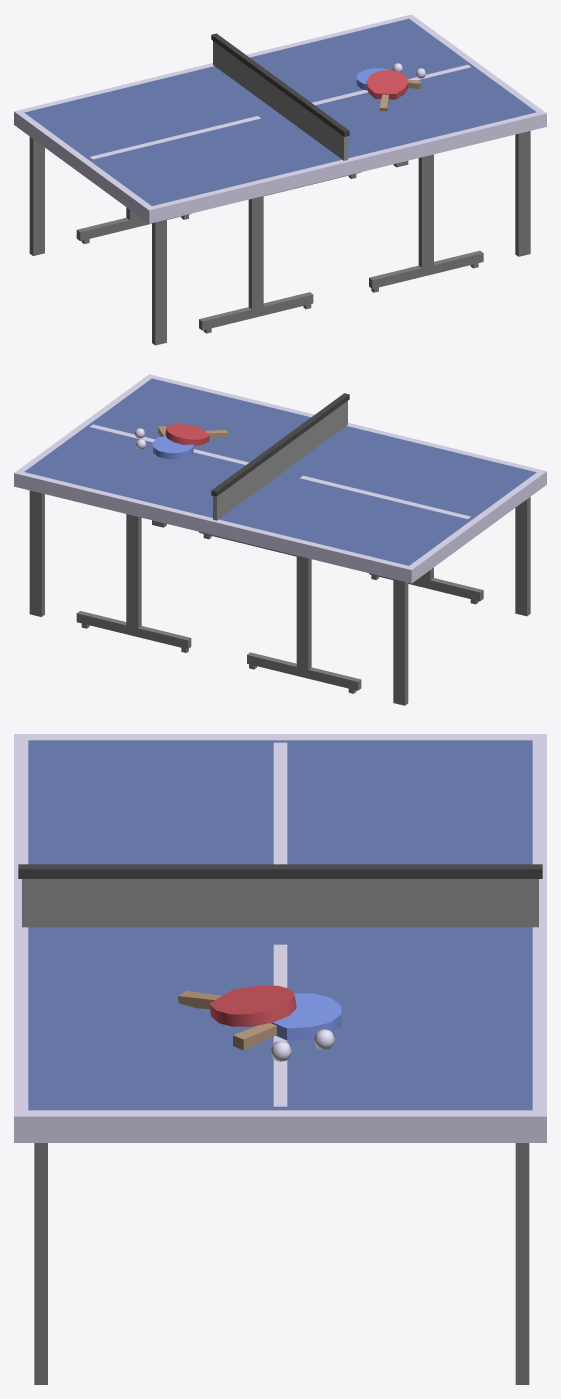
File: pingpong.fbx
The picture shows the model from 3 angles, top to bottom: view 1: azimuth 30°, elevation 25°; view 2: azimuth 150°, elevation 25°; view 3: azimuth 270°, elevation 25°; orthographic projection. The views are drawn at different scales.
Parts seen in each view (by area): view 1: pingpong; view 2: pingpong; view 3: pingpong.
Part boxes in pixels (left/top/right/bottom): pingpong: left=14, top=14, right=546, bottom=345; pingpong: left=14, top=374, right=546, bottom=705; pingpong: left=14, top=734, right=546, bottom=1384.
Size of the model in its own units: 196 by 81.06 by 115.
